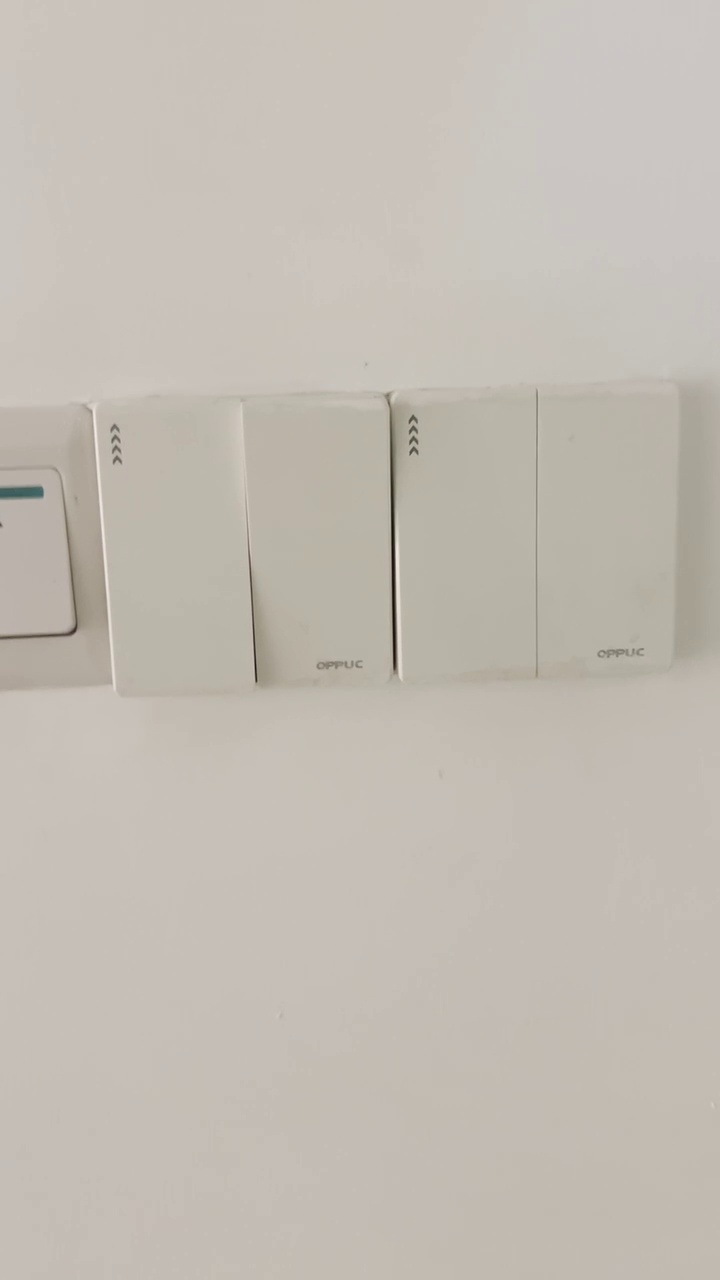button1: (94, 401, 252, 684), (246, 401, 393, 673), (397, 398, 533, 671), (546, 400, 668, 668)
